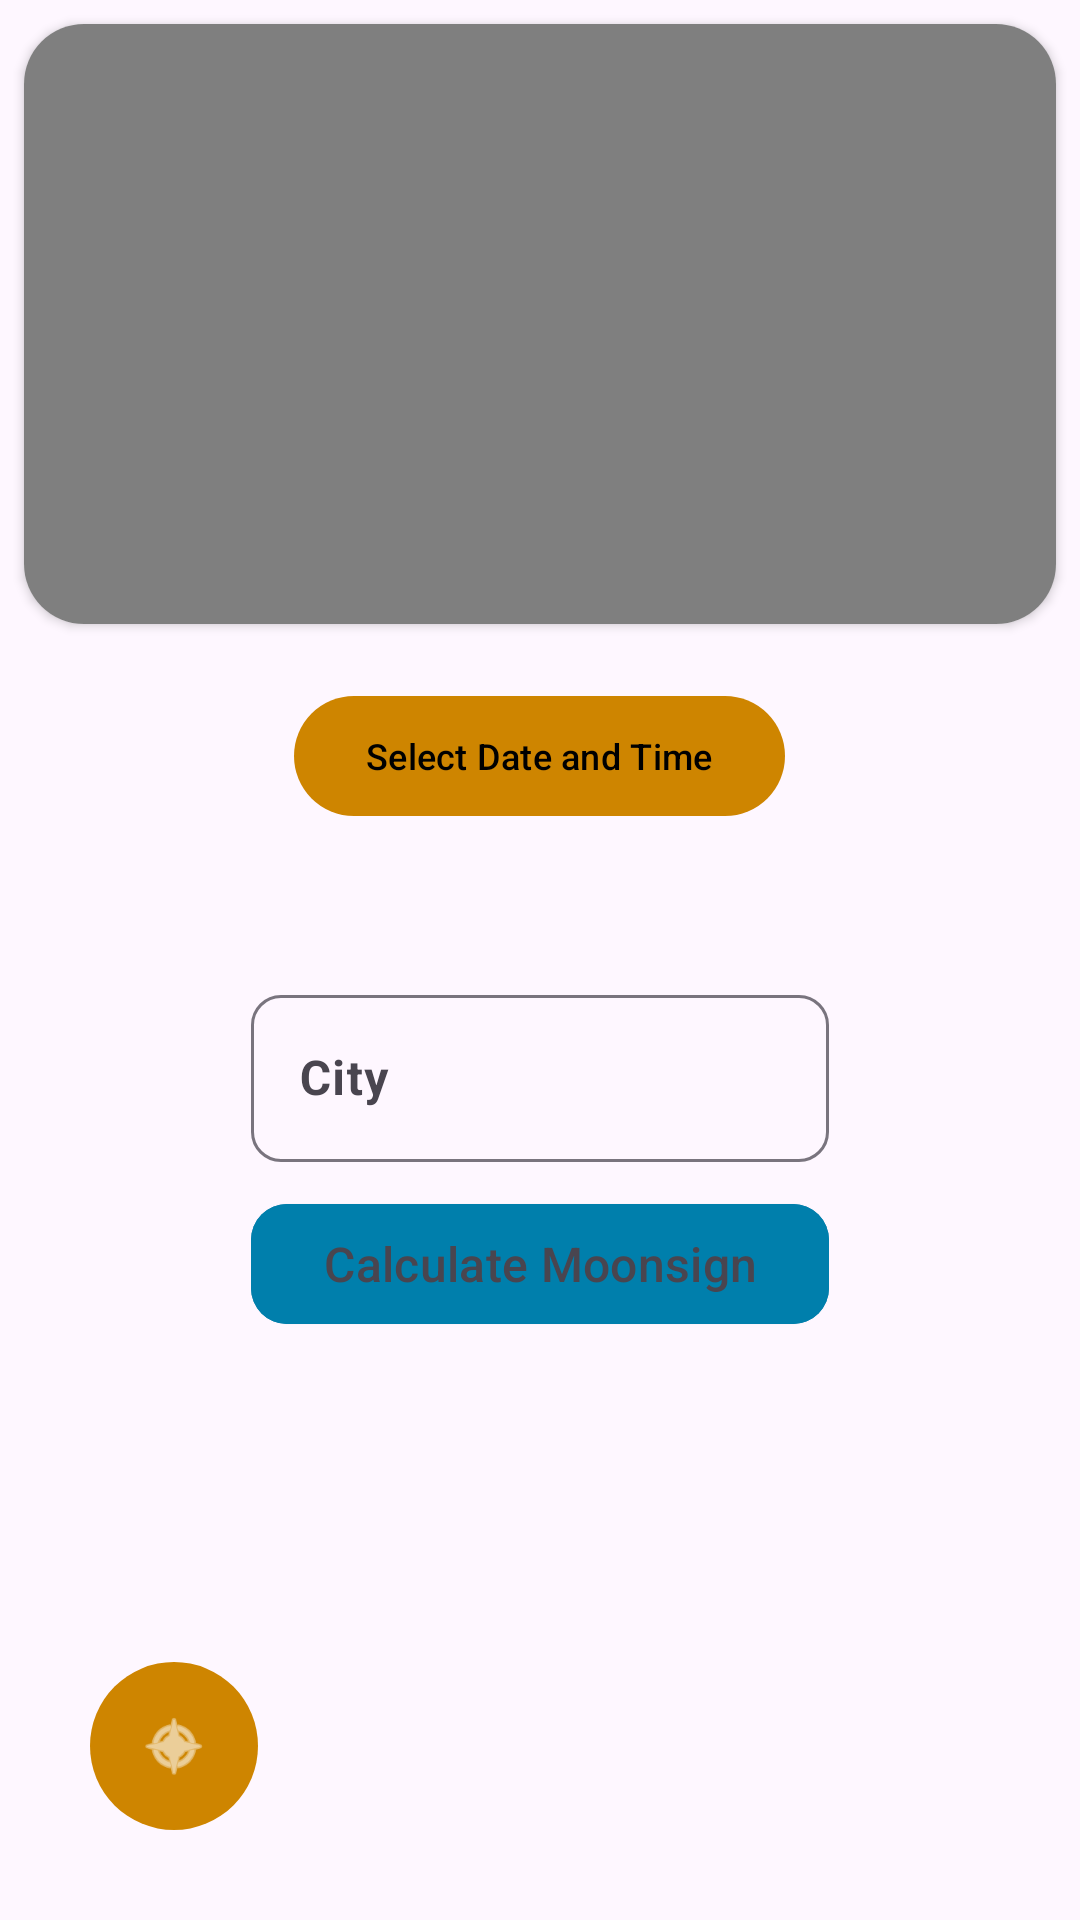

Locate icon controls on the screen. Image size 1080 x 1920, boxes as (x1, y1, x2, y2).
compass: (90, 1662, 258, 1830)
